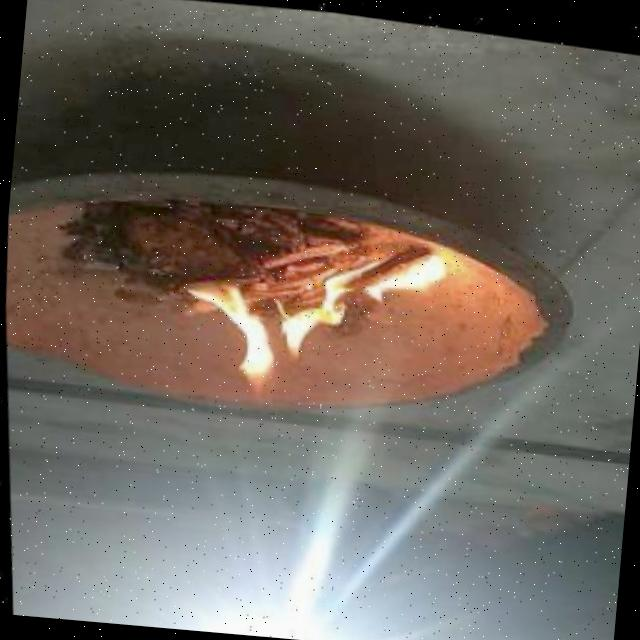fire: (190, 229, 446, 407)
